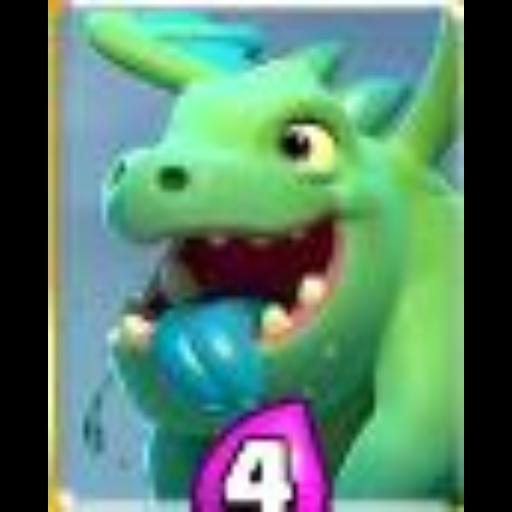baby-dragon: (49, 0, 465, 512)
